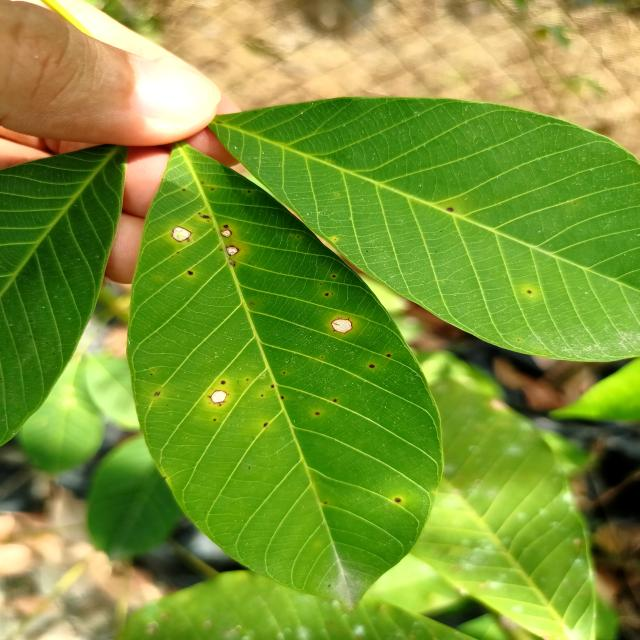Colletotrichum: (330, 318, 352, 334), (171, 226, 191, 242), (208, 390, 228, 404), (226, 245, 240, 256), (220, 230, 232, 238), (446, 207, 454, 212), (394, 498, 401, 502), (369, 364, 375, 368), (188, 271, 193, 275), (264, 422, 268, 427), (527, 290, 531, 294), (223, 225, 228, 228), (386, 354, 391, 357), (315, 412, 320, 415), (325, 293, 329, 296), (332, 275, 336, 278), (333, 399, 337, 402), (221, 381, 225, 384), (271, 385, 274, 388), (281, 396, 284, 399), (250, 303, 254, 305), (261, 394, 263, 397)
